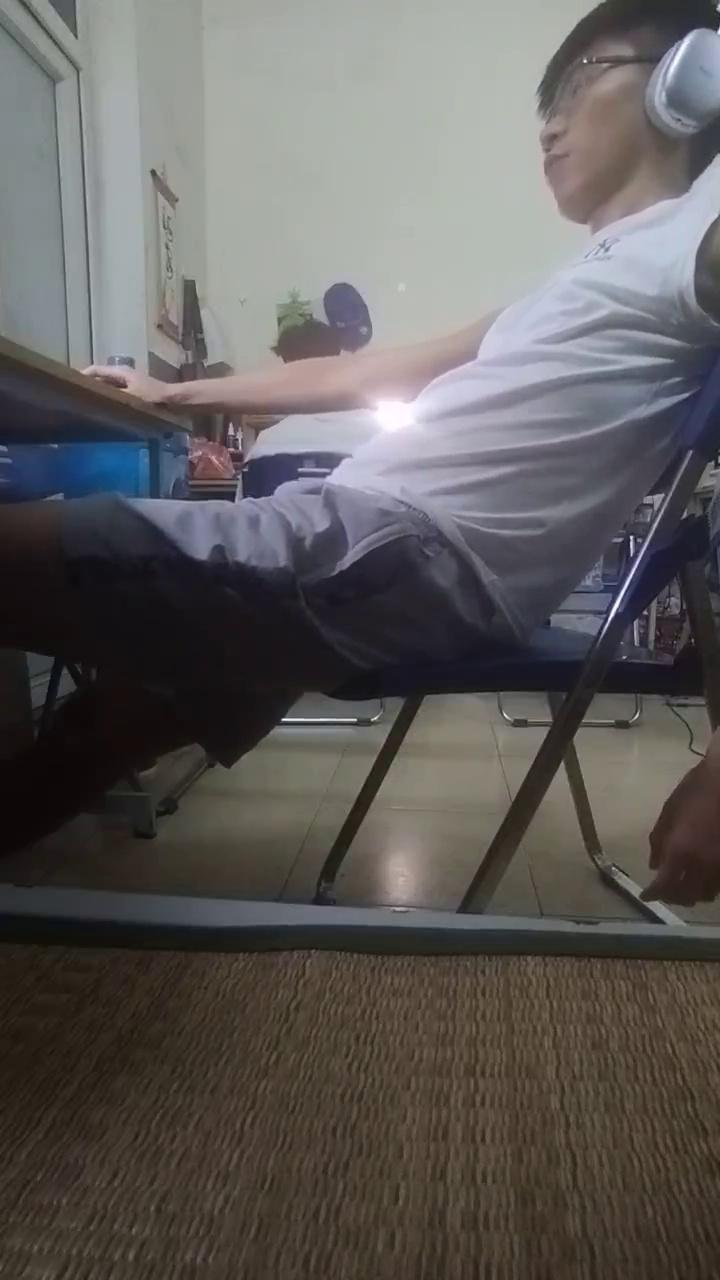BadPosture: (0, 0, 719, 857)
